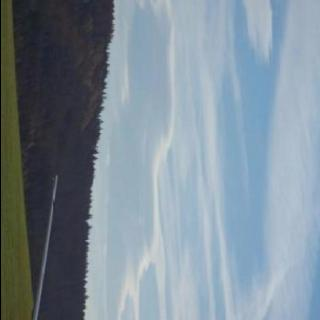Altocumulus: (100, 0, 320, 320)
